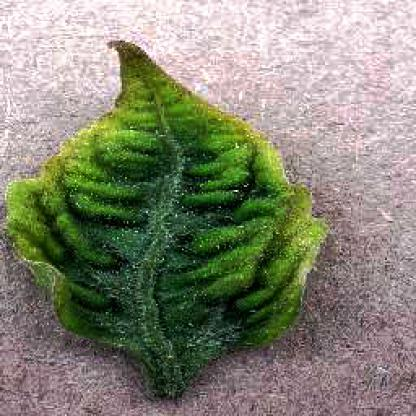Virus: (3, 34, 327, 411)
